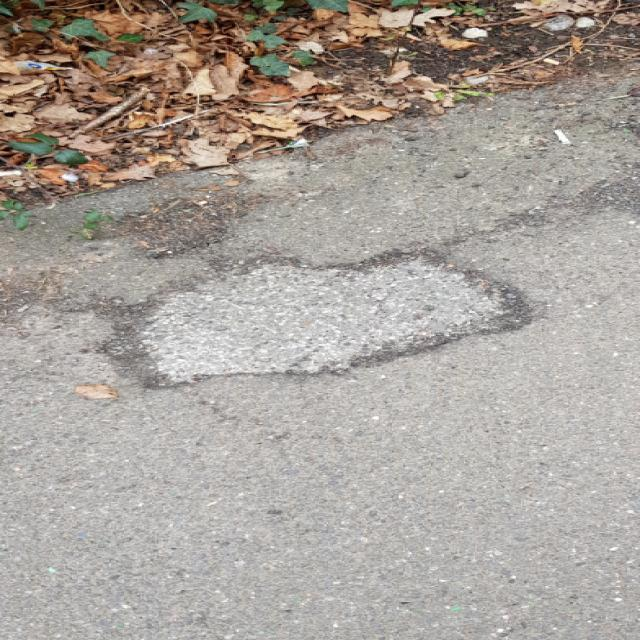pothole: (105, 243, 538, 395)
